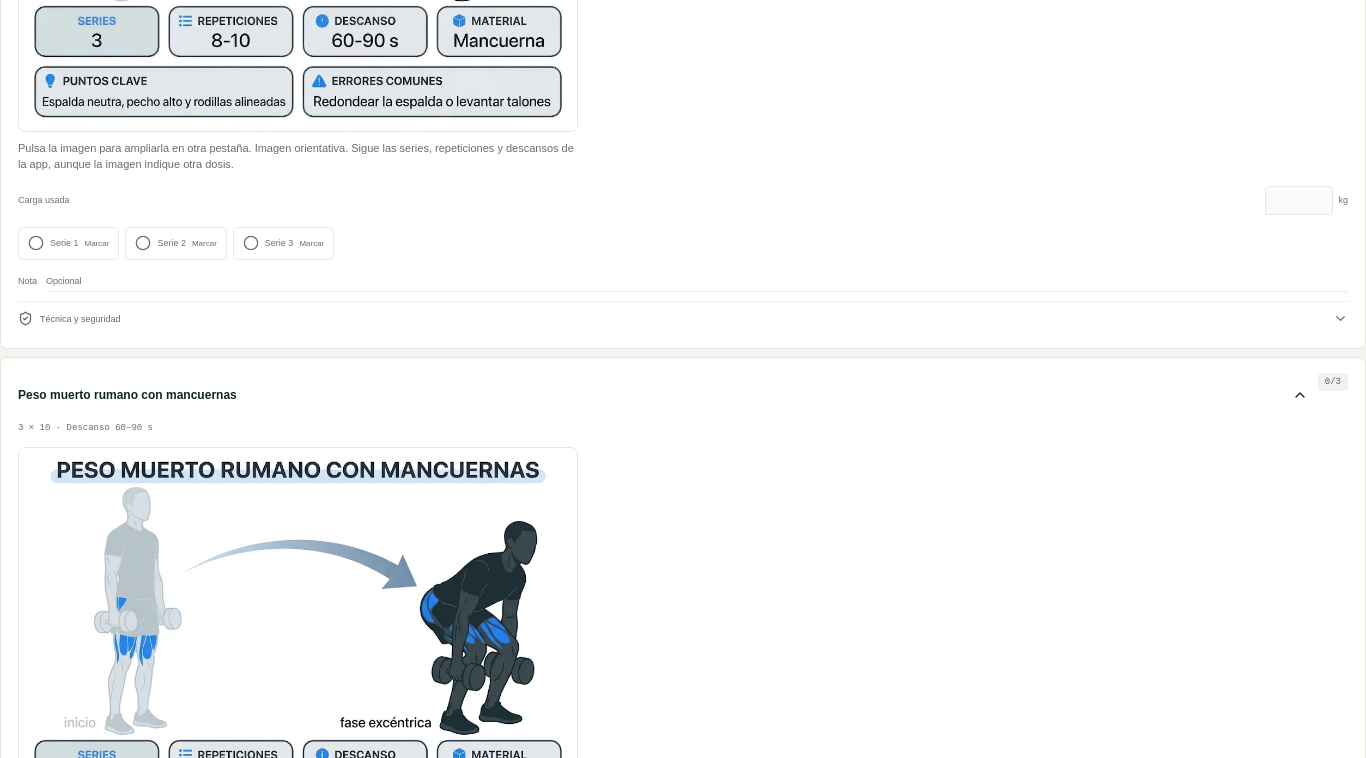
Test: workout countdown integration › continues the last rest while keeping the card folded and the set completed
(page scrolled)
Click the button "Serie 1 Marcar" at (69,243), box [18, 227, 119, 260]
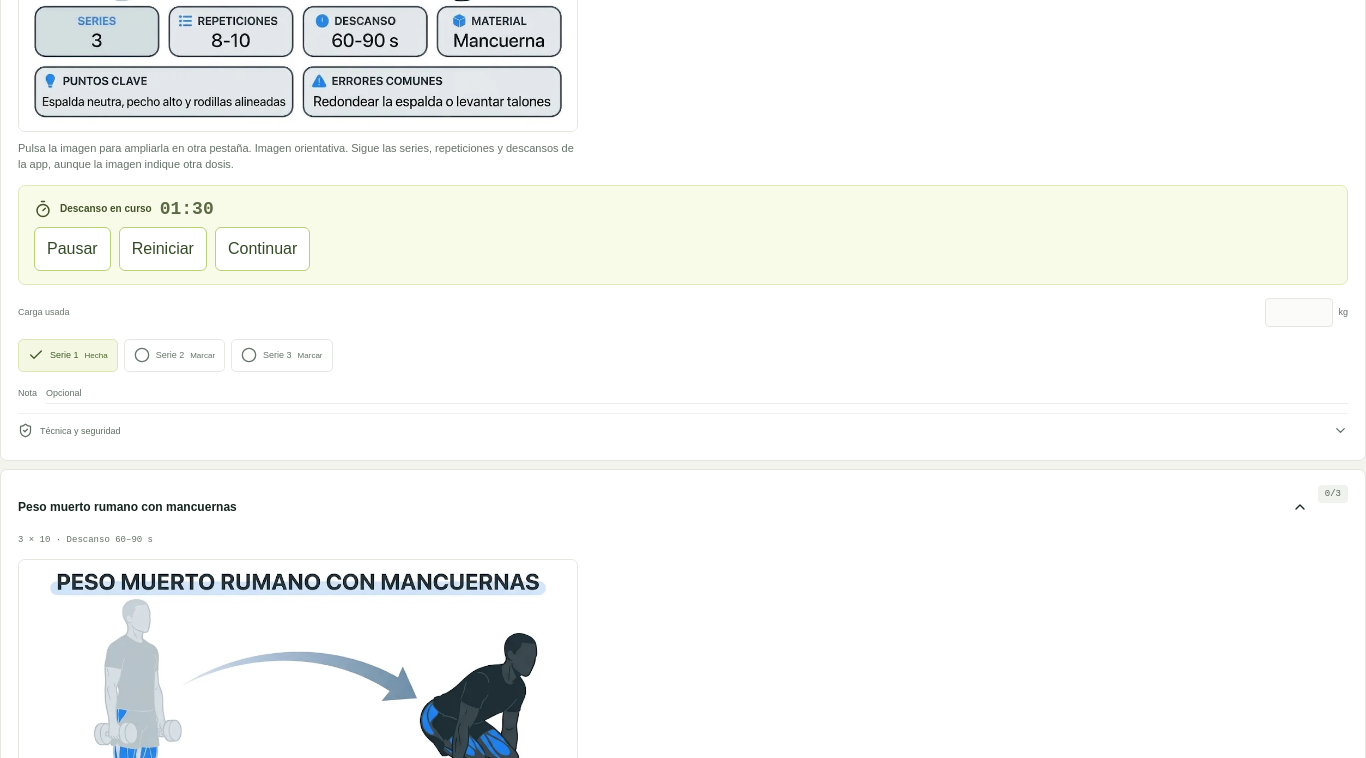
Click the button "Serie 2 Marcar" at (174,355), box [124, 339, 225, 372]
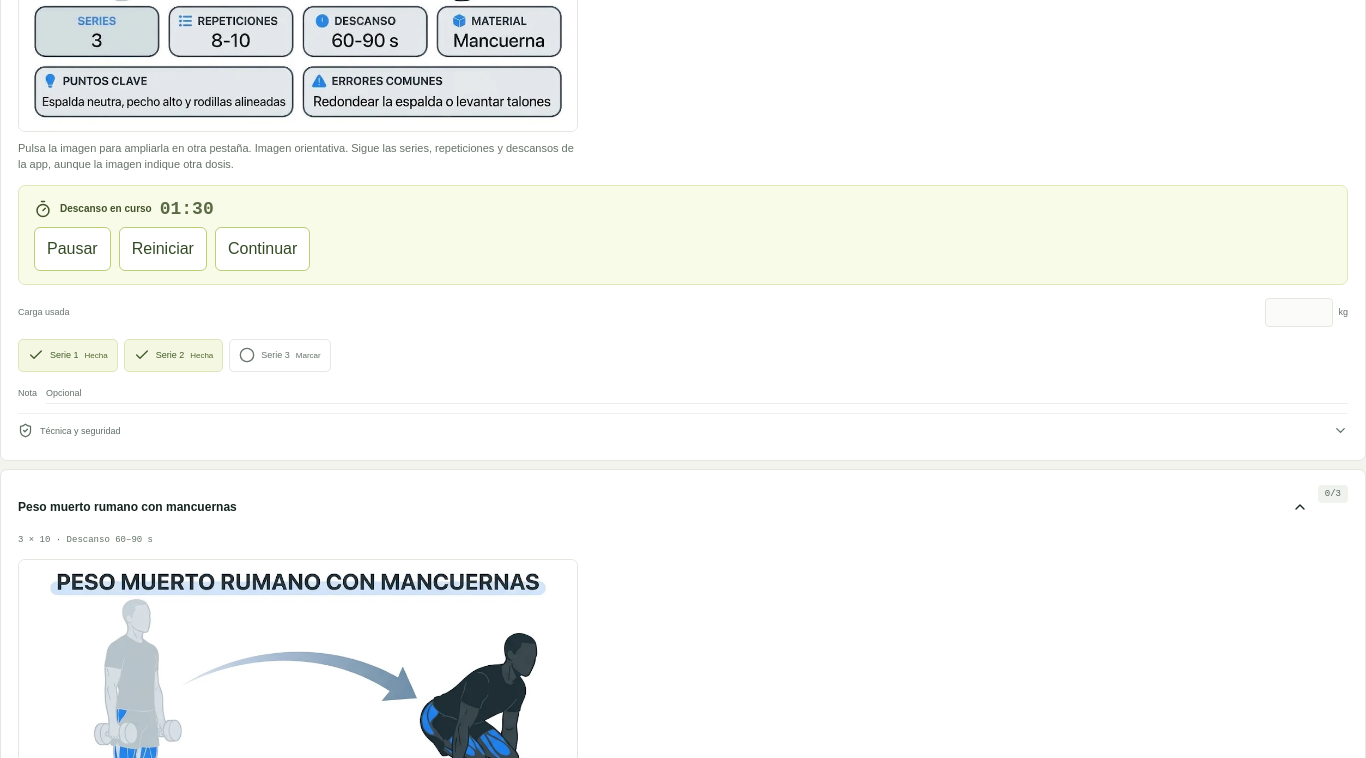
Click the button "Serie 3 Marcar" at (280,355), box [229, 339, 331, 372]
(page scrolled)
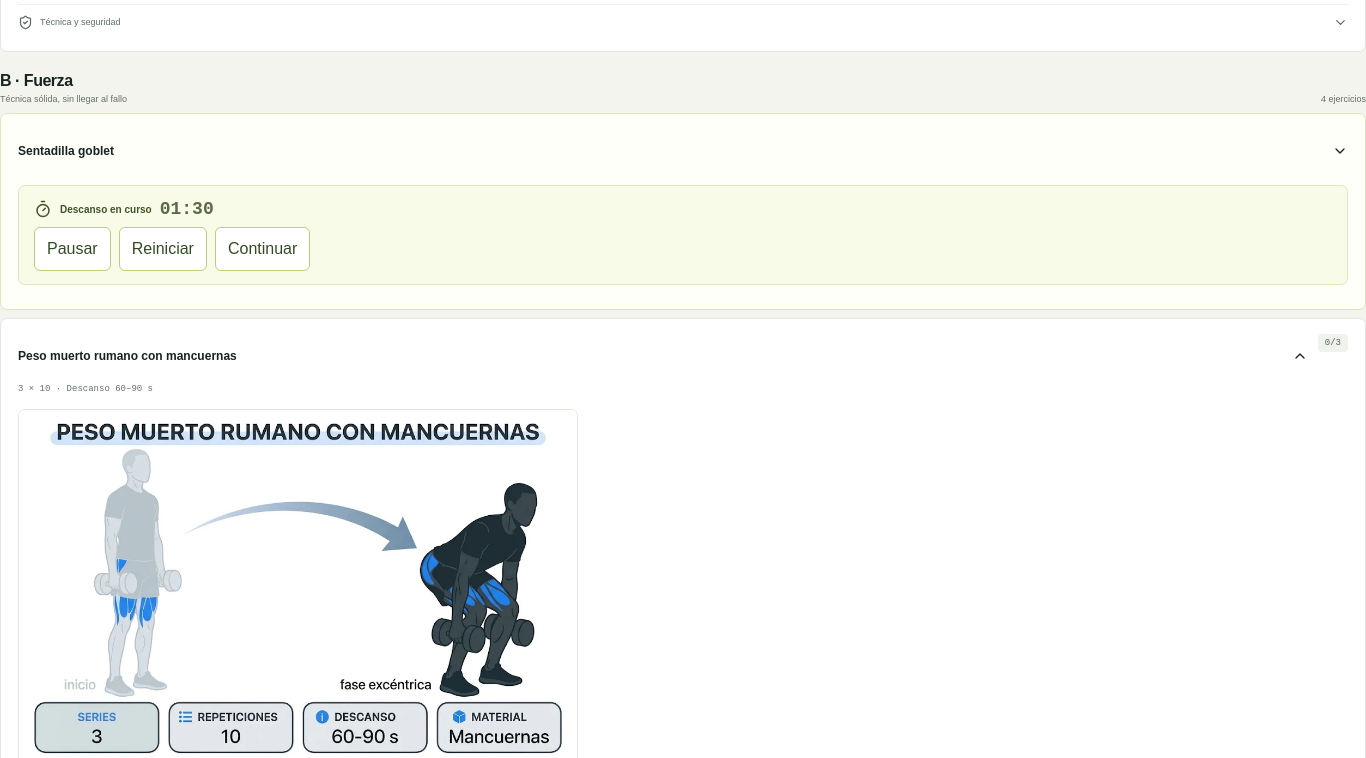
expect the text "01:30" is shown: met, box [160, 199, 214, 219]
expect the button "Sentadilla goblet" is collapsed: met, box [18, 129, 1348, 173]
Click the button "Continuar" at (263,249), box [215, 227, 310, 271]
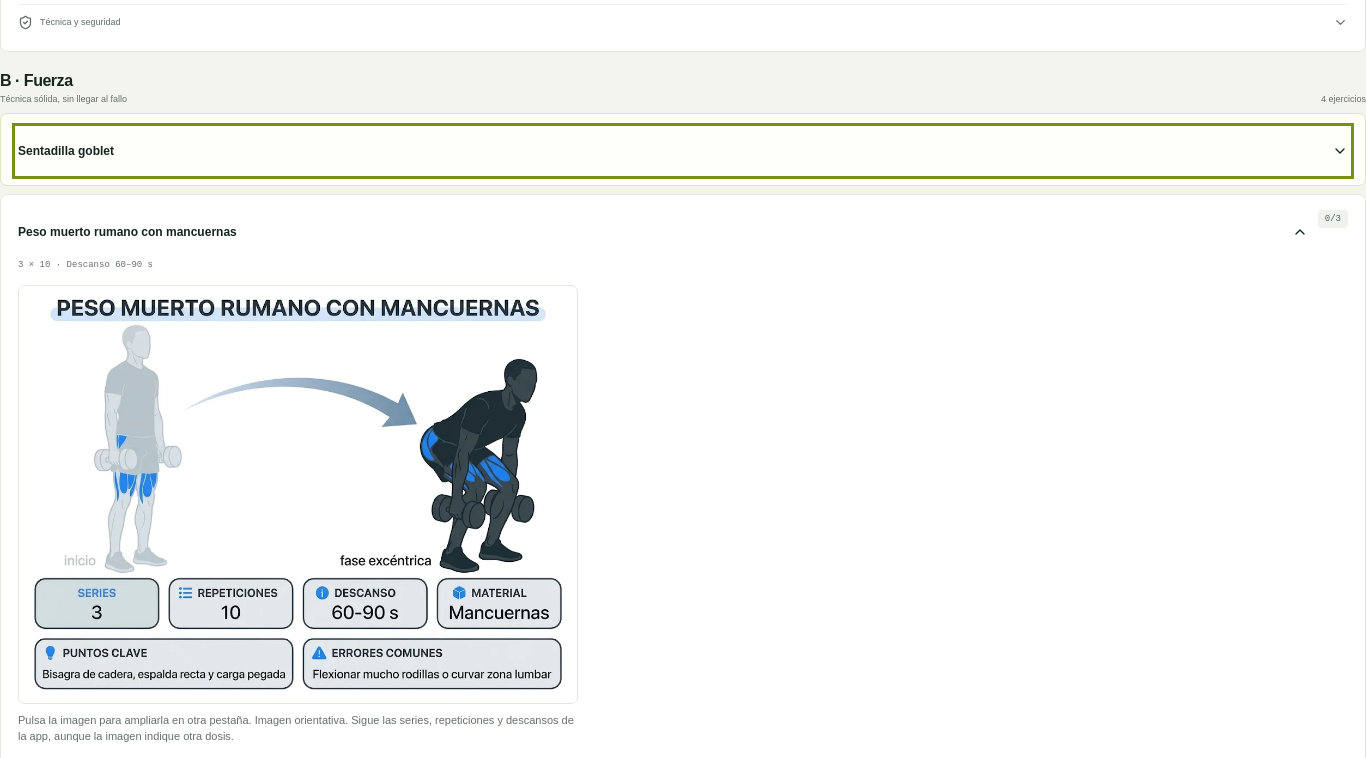
expect the button "Sentadilla goblet" is collapsed: met
Click the button "Sentadilla goblet" at (66,151), box [18, 129, 1348, 173]
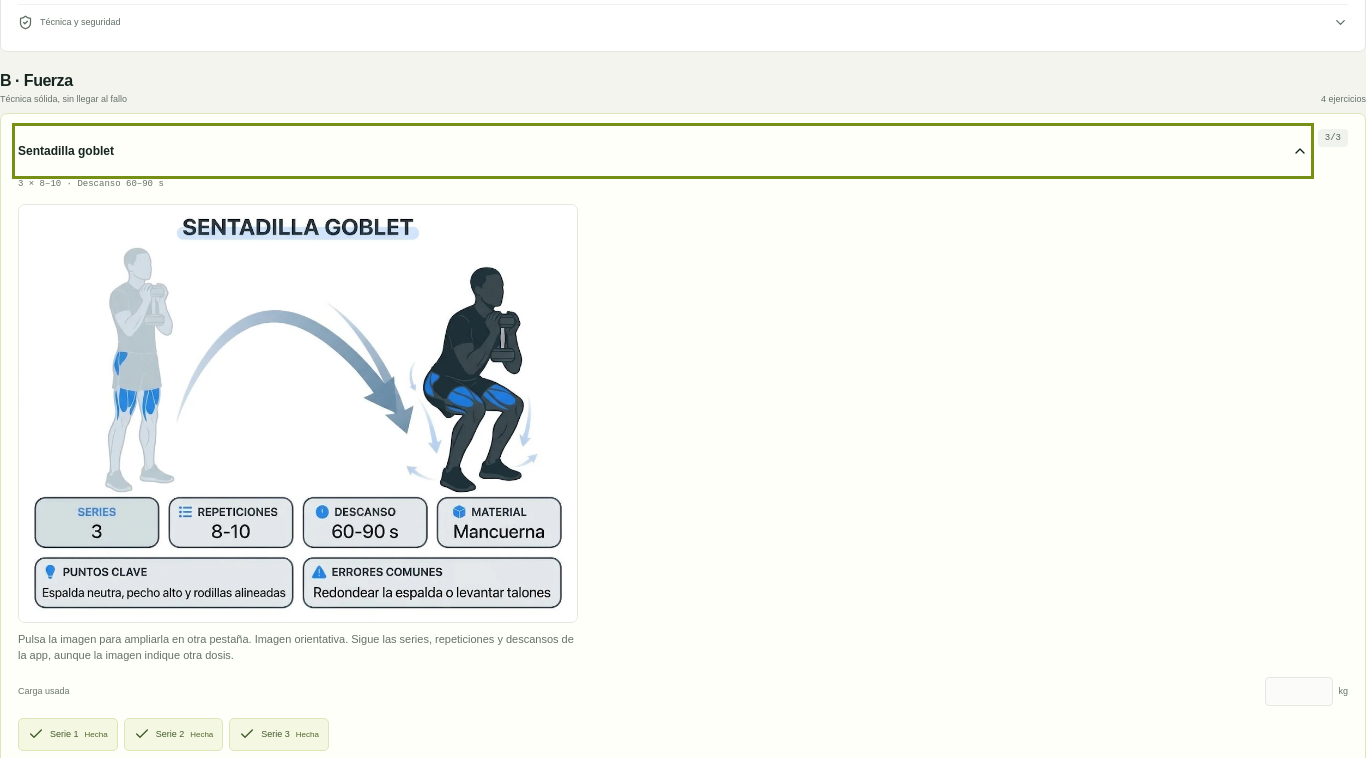
expect the button "Serie 3 Hecha" is shown: met, box [229, 718, 329, 751]
expect the button "Serie 2 Hecha" is shown: met, box [124, 718, 223, 751]
